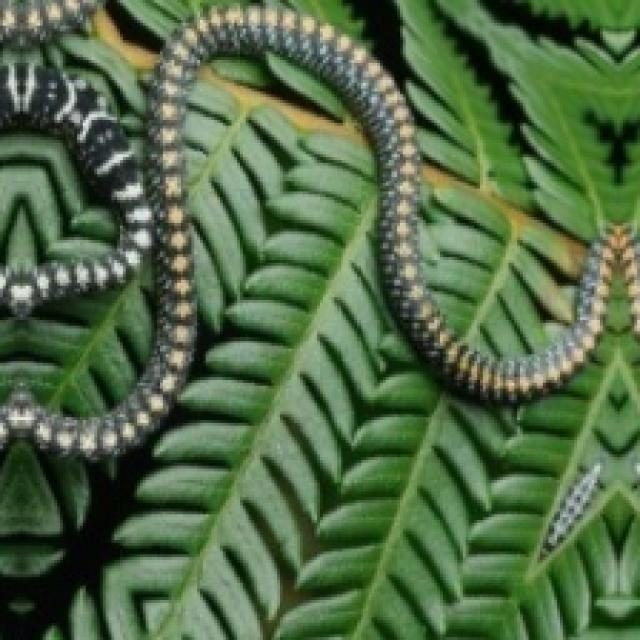paradise tree snake: (0, 3, 637, 454), (0, 0, 94, 49)
